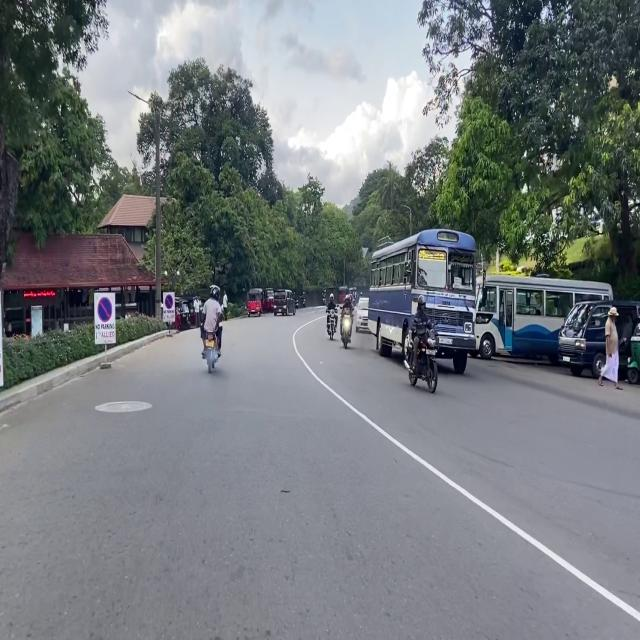bus: (368, 228, 476, 373), (475, 274, 612, 364)
car: (274, 290, 295, 316), (355, 297, 369, 332)
motorcycle: (404, 327, 437, 393), (205, 332, 218, 373), (341, 311, 352, 348), (327, 309, 337, 340), (300, 293, 306, 308), (322, 290, 325, 305)
person: (599, 306, 622, 390), (201, 285, 223, 358), (413, 295, 432, 373), (193, 297, 200, 327), (343, 293, 353, 312), (327, 293, 335, 312), (222, 292, 227, 319)
three wheeler: (627, 321, 640, 384), (175, 297, 191, 330), (248, 290, 262, 315), (263, 289, 274, 312), (338, 286, 347, 303)
van: (559, 300, 640, 380)
